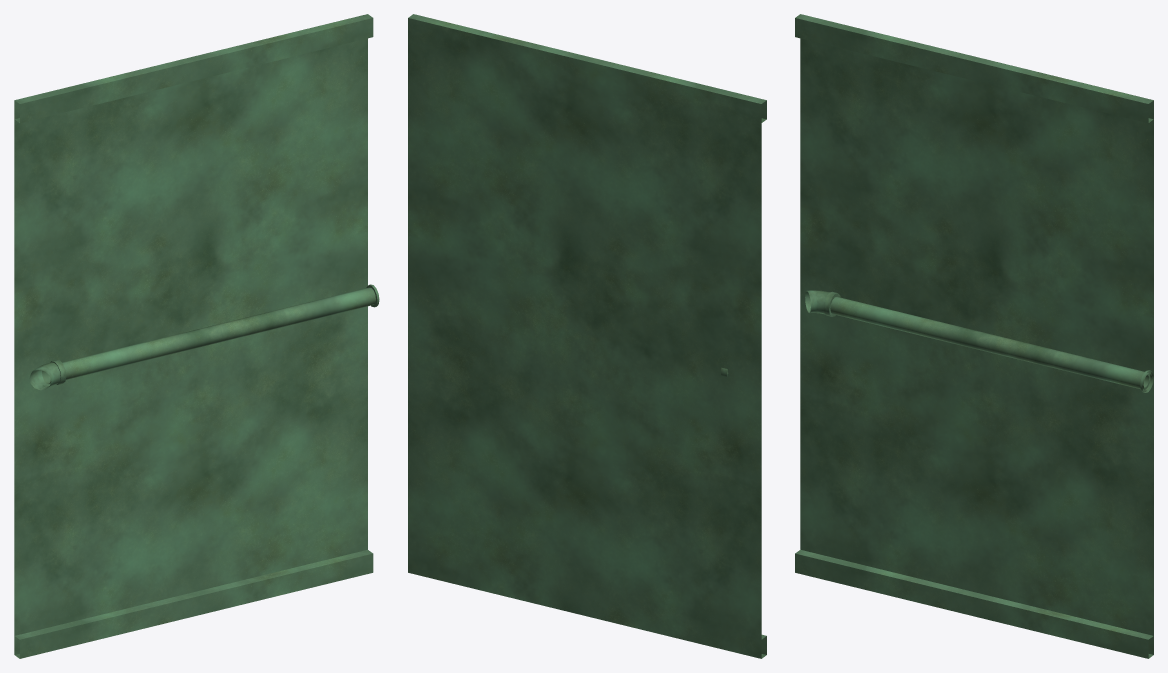
File: Wall_LowerDeck_Middle_Corner2.FBX
3 renders of one model, left to right at view 1: azimuth 30°, elevation 25°; view 2: azimuth 150°, elevation 25°; view 3: azimuth 330°, elevation 25°, orthographic.
Visible parts, largest first — view 1: Plane017; view 2: Plane017; view 3: Plane017.
Part boxes in pixels (left/top/right/bottom): Plane017: left=14, top=14, right=379, bottom=658; Plane017: left=408, top=14, right=766, bottom=658; Plane017: left=795, top=14, right=1153, bottom=658.
Size of the model in its own units: 200 by 300 by 13.46.
